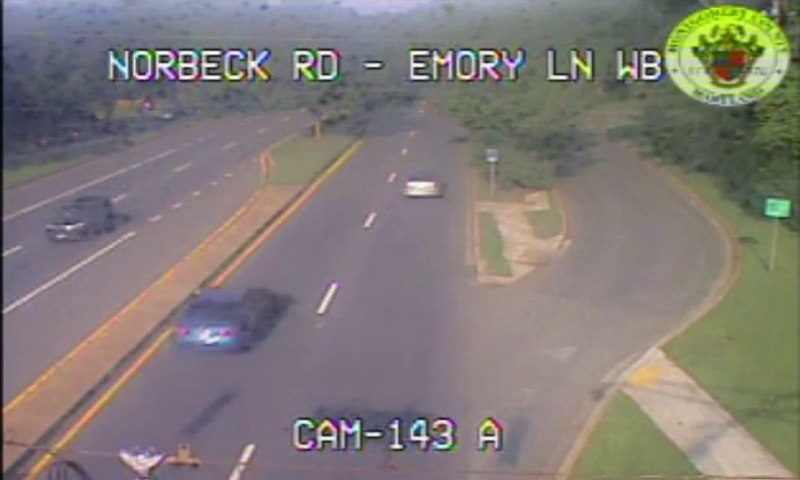car: (175, 287, 270, 349), (402, 174, 441, 195)
